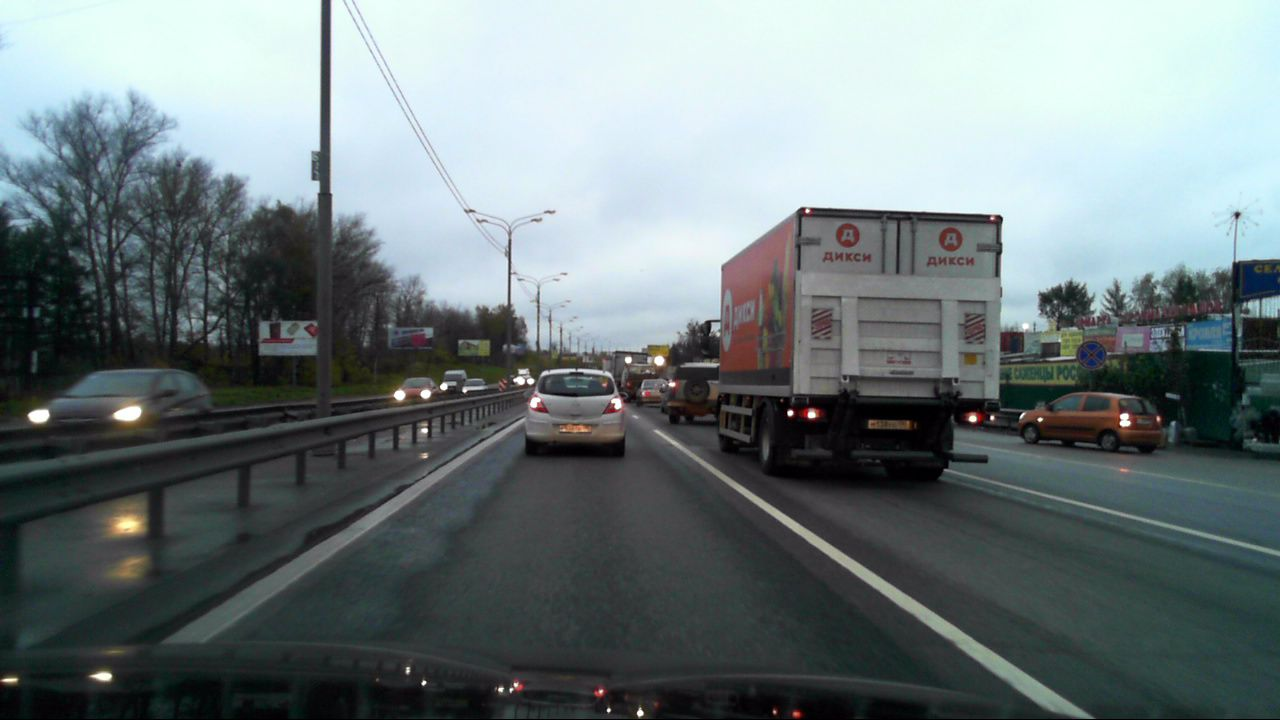No Parking: (1076, 340, 1106, 369)
